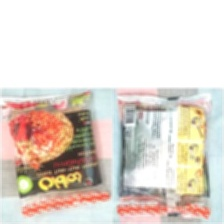snack: (0, 89, 112, 224), (113, 88, 217, 224)
